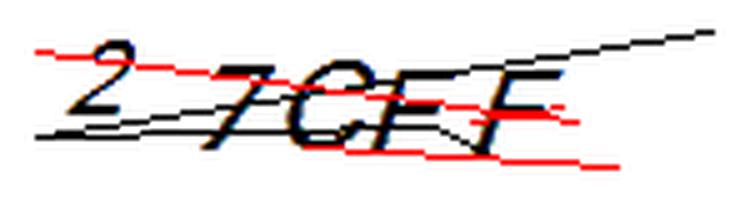2: (62, 32, 139, 124)
7: (188, 55, 280, 158)
C: (281, 50, 380, 156)
F: (469, 64, 579, 161), (369, 61, 472, 163)
